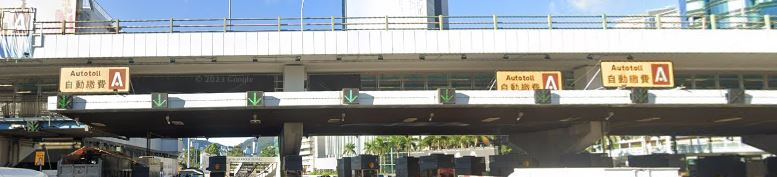Autotoll: (56, 64, 129, 95), (601, 59, 675, 88), (497, 70, 563, 90)
